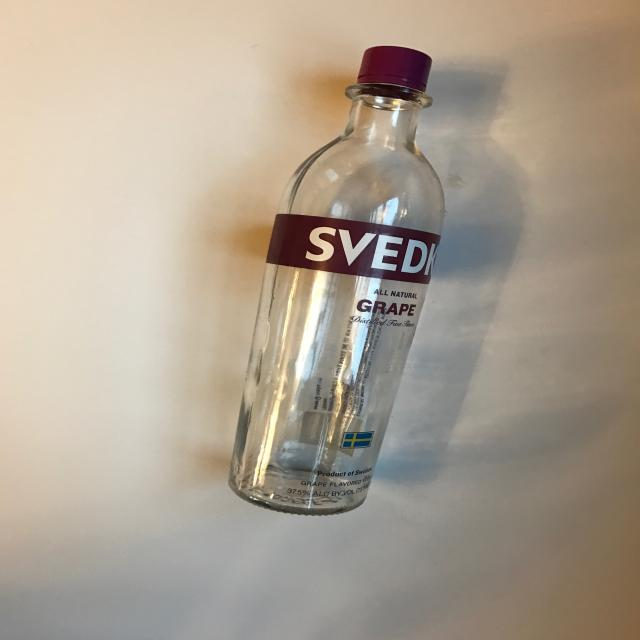glass: (227, 45, 446, 515)
